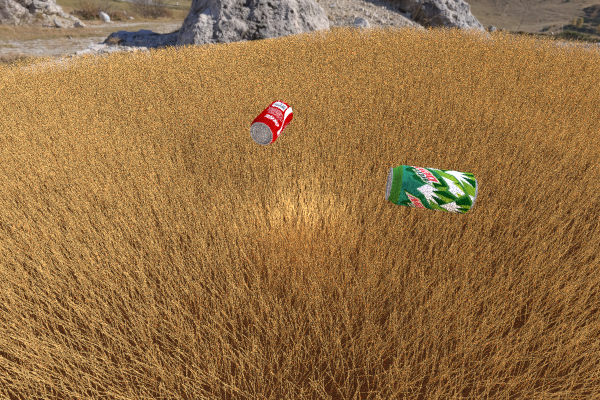bottle: (45, 332, 428, 400)
can: (385, 165, 477, 213), (250, 100, 293, 145)
